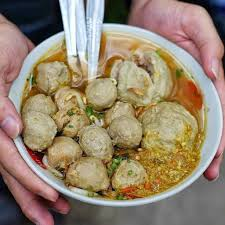bakso: (19, 42, 206, 197)
